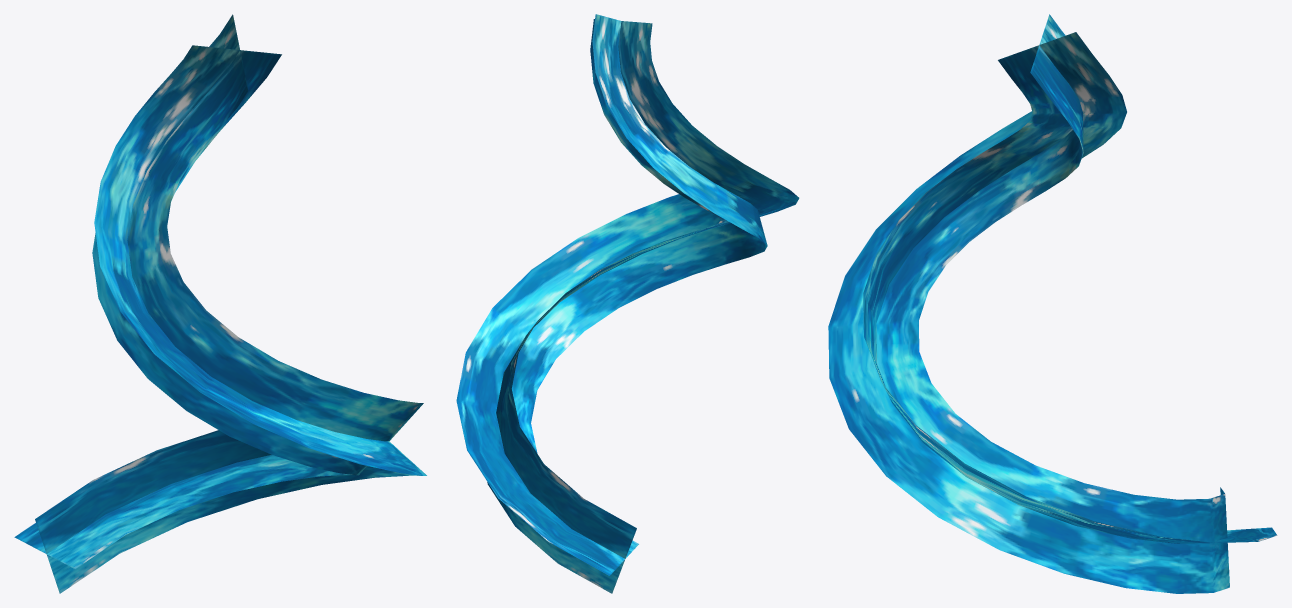
The model's file is shuiliuxian_ly.FBX.
3 renders of one model, left to right at view 1: azimuth 30°, elevation 25°; view 2: azimuth 150°, elevation 25°; view 3: azimuth 270°, elevation 25°, orthographic. The views are drawn at different scales.
Visible parts, largest first — view 1: Helix002; view 2: Helix002; view 3: Helix002.
Part boxes in pixels (<box>): Helix002: <box>14,14,426,593</box>; Helix002: <box>456,14,799,593</box>; Helix002: <box>828,14,1277,593</box>.
Bounding box in the file's own units: 30.53 × 55.59 × 38.08.
